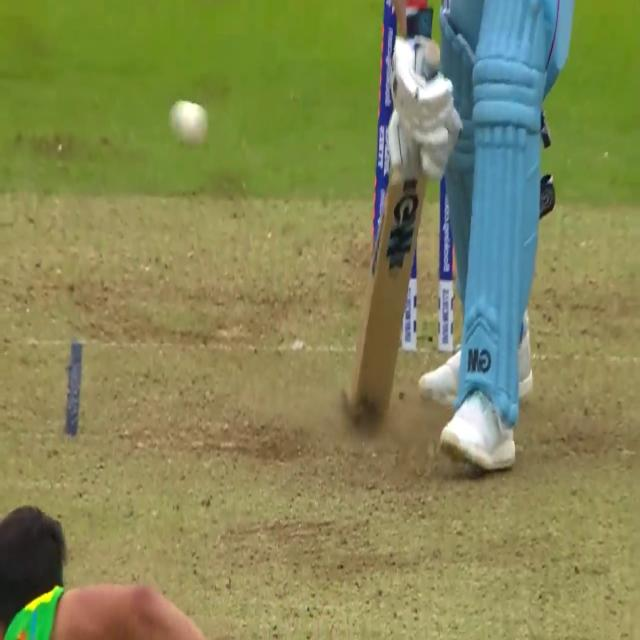ball: (168, 87, 206, 149)
